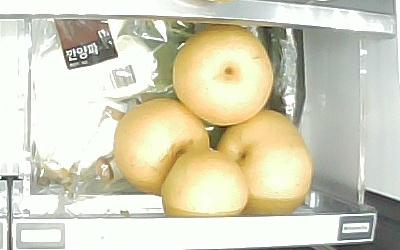pear: (217, 110, 313, 216), (173, 25, 274, 125), (113, 97, 209, 194), (160, 150, 247, 218)
